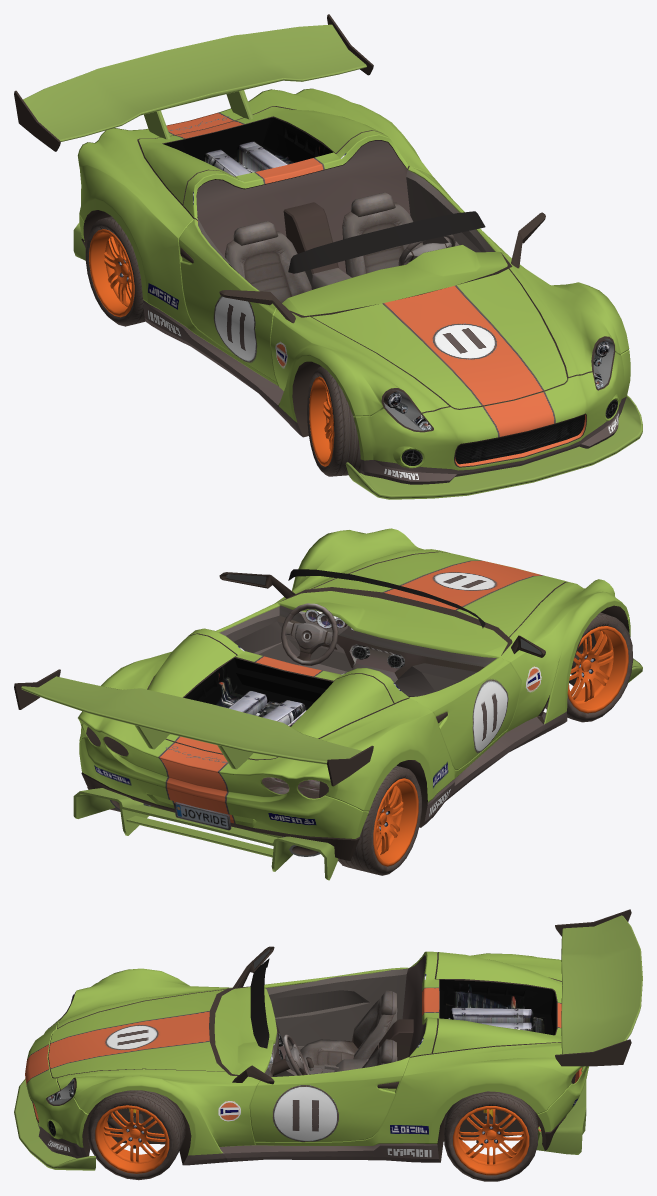
The model's file is sportscar0.glb.
3 renders of one model, top to bottom at view 1: azimuth 30°, elevation 25°; view 2: azimuth 150°, elevation 25°; view 3: azimuth 270°, elevation 25°, orthographic. The views are drawn at different scales.
Visible parts, largest first — view 1: node_id107, node_id100, node_id129, node_id44, node_id55, node_id105, node_id109, node_id123, node_id93, node_id113, node_id90, node_id86 (+5 smaller); view 2: node_id107, node_id100, node_id129, node_id109, node_id105, node_id57, node_id86, node_id93, node_id46, node_id97, node_id102, node_id123 (+5 smaller); view 3: node_id107, node_id129, node_id100, node_id105, node_id109, node_id44, node_id79, node_id72, node_id55, node_id76, node_id83, node_id102 (+7 smaller).
Part boxes in pixels (x1,y1,x2,y2): node_id107: [77, 88, 630, 484]; node_id100: [23, 24, 366, 141]; node_id129: [196, 140, 494, 289]; node_id44: [225, 192, 423, 302]; node_id55: [345, 395, 642, 499]; node_id105: [163, 117, 332, 176]; node_id109: [81, 106, 615, 467]; node_id123: [288, 211, 485, 273]; node_id93: [89, 229, 134, 317]; node_id113: [455, 415, 584, 464]; node_id90: [315, 366, 361, 476]; node_id86: [309, 376, 334, 466]; node_id107: [78, 528, 630, 838]; node_id100: [21, 676, 361, 769]; node_id129: [220, 605, 496, 697]; node_id109: [81, 551, 629, 860]; node_id105: [184, 658, 332, 726]; node_id57: [73, 788, 338, 880]; node_id86: [567, 626, 628, 713]; node_id93: [373, 778, 418, 866]; node_id46: [281, 603, 338, 665]; node_id97: [338, 765, 416, 875]; node_id102: [14, 669, 373, 786]; node_id123: [288, 569, 485, 628]; node_id107: [25, 951, 588, 1165]; node_id129: [265, 956, 425, 1076]; node_id100: [561, 915, 642, 1054]; node_id105: [440, 979, 556, 1035]; node_id109: [29, 952, 575, 1164]; node_id44: [300, 990, 397, 1068]; node_id79: [453, 1106, 529, 1175]; node_id72: [95, 1105, 169, 1173]; node_id55: [14, 1078, 95, 1170]; node_id76: [87, 1090, 185, 1180]; node_id83: [444, 1091, 537, 1181]; node_id102: [555, 909, 631, 1066].
Size of the model in its own units: 0.512 by 0.2669 by 1.01.
44 materials, 44 textured.
